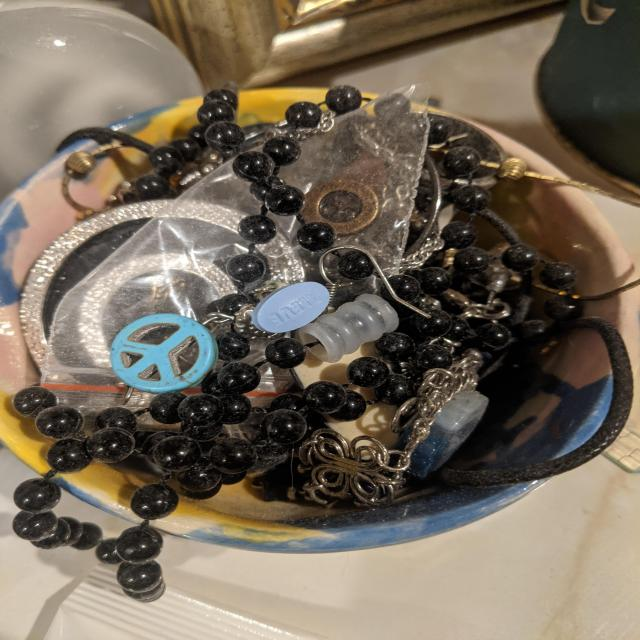non-organic waste: (251, 280, 332, 334)
